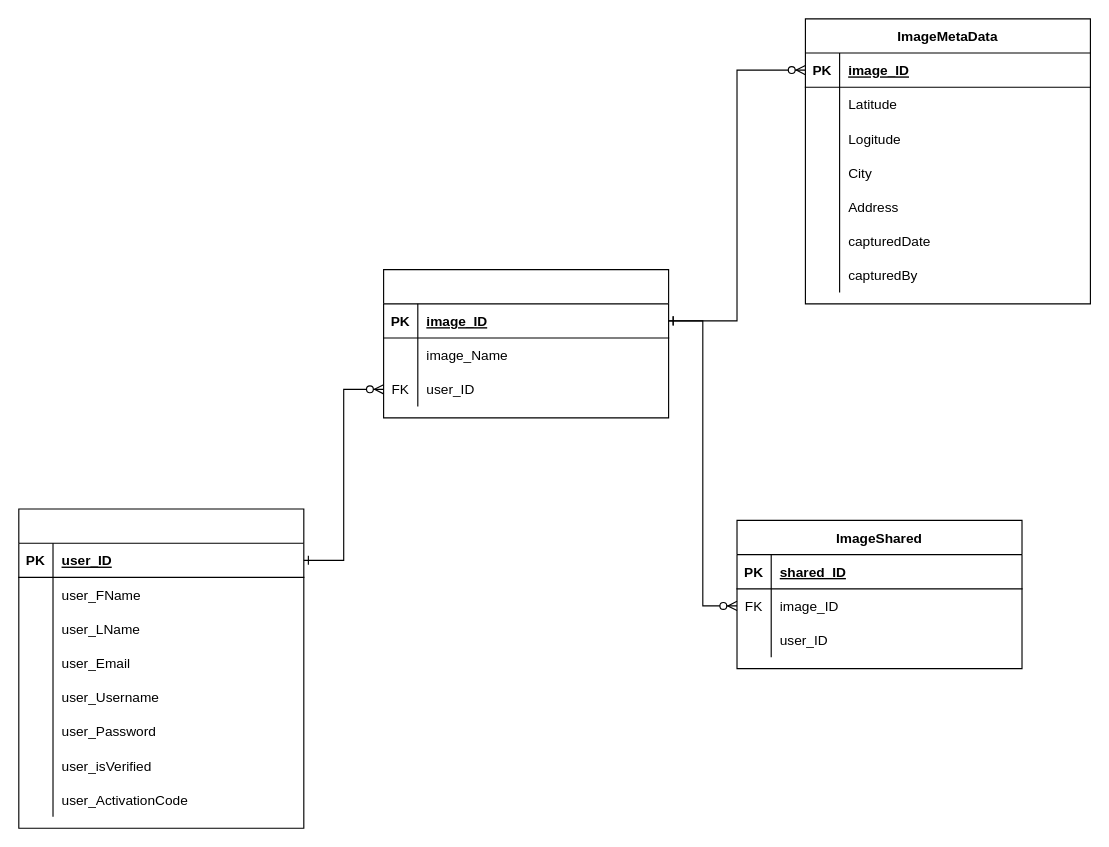
Some shapes in this 1109 by 847 pixel diagram are drawn without their labels. Each missing label, with the box of its shape:
ImageDetails: (382, 268, 669, 418)
UserDetails: (18, 508, 304, 828)
